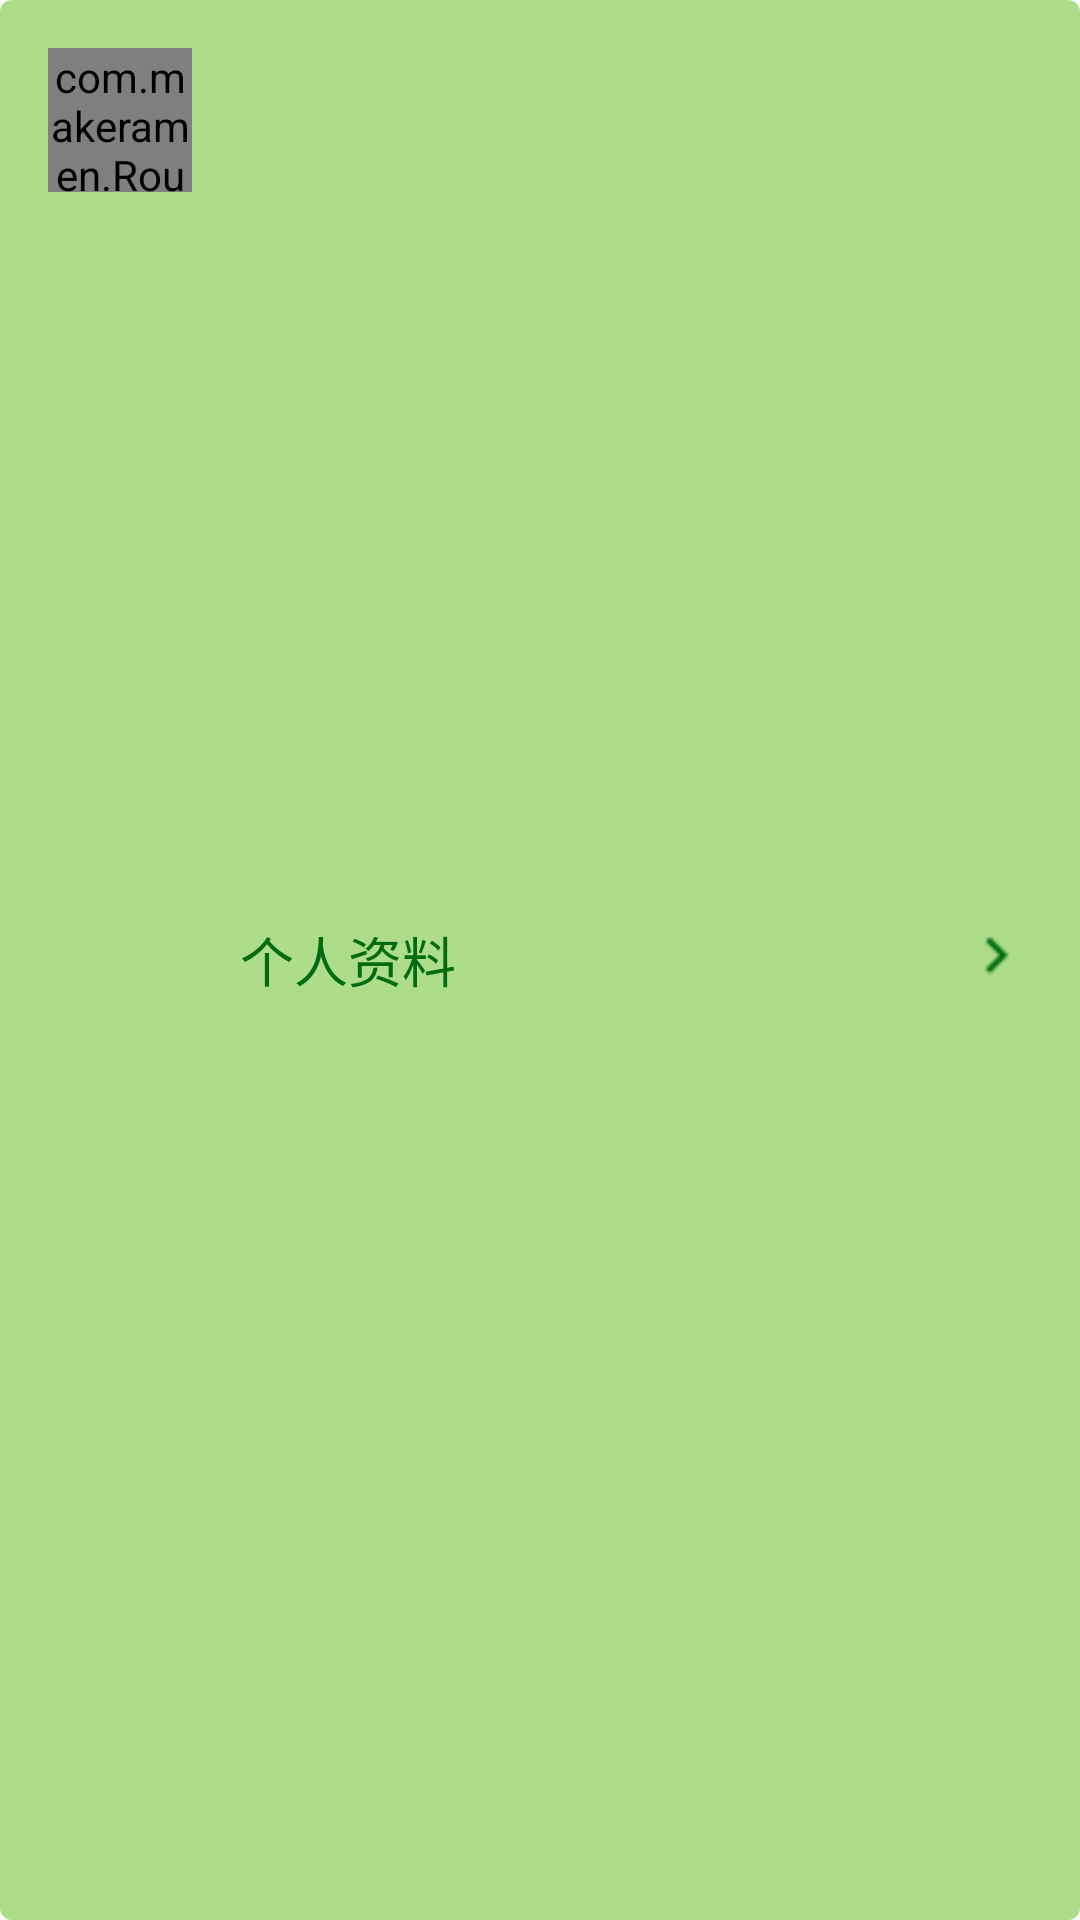

Named icons in this screenshot (1080px x 1920px) and their centers, [x,y]:
arrow right: [997,955]
